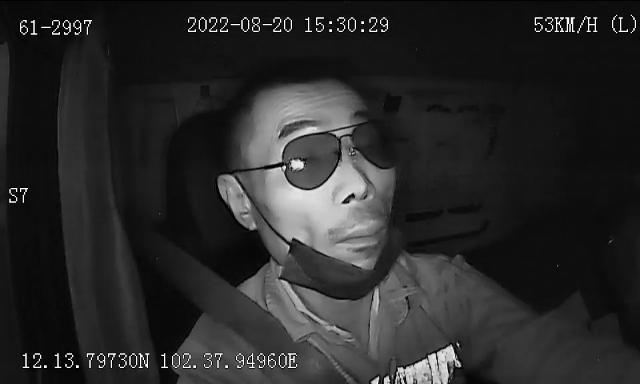SafeDriving: (282, 148, 324, 182)
Seatbelt: (126, 232, 344, 384)
